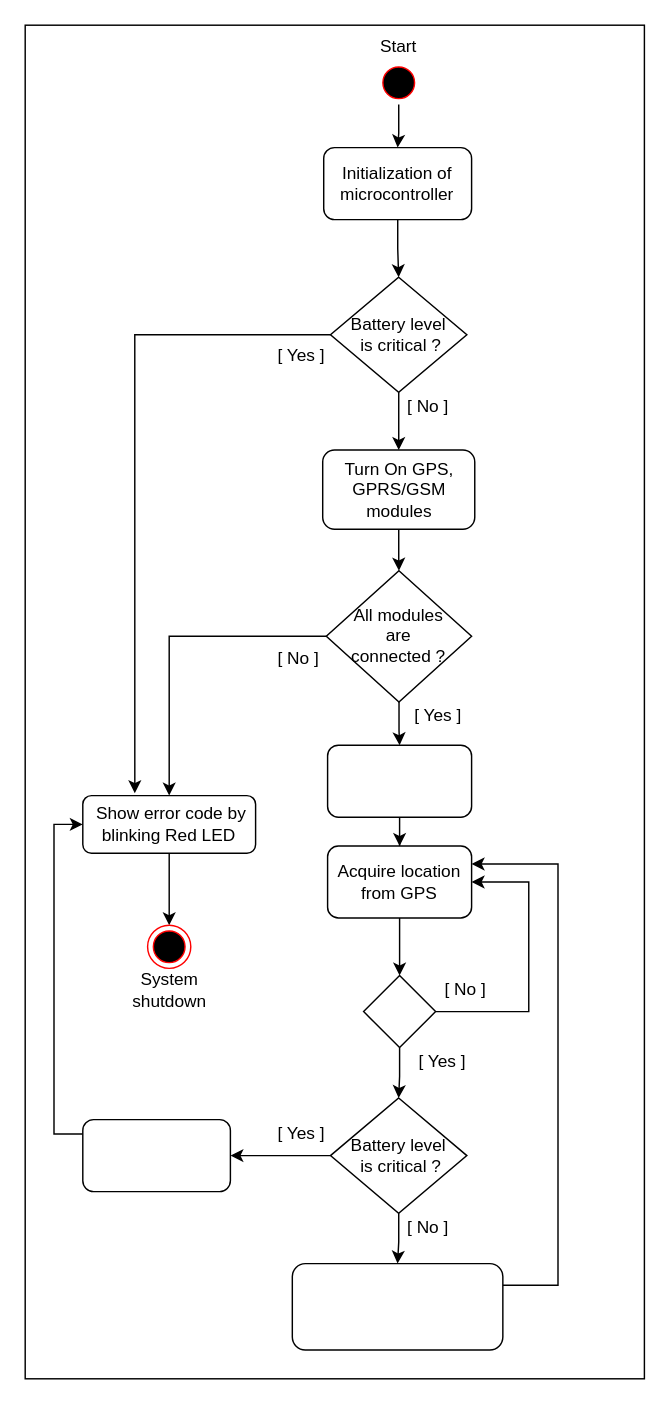
Some shapes in this 670 by 1404 pixel diagram are drawn without their labels. The shapes that lost their labels are listed below. From the top down, each one's centre as x and y in pixels, then its label:
At point 399,780: "Initialize all Modules".
At point 399,1011: "Valid".
At point 155,1155: "Turn Off GPS, GPRS/GSM modules".
At point 397,1306: "Send Location and battery level to server application with GPRS Module".
